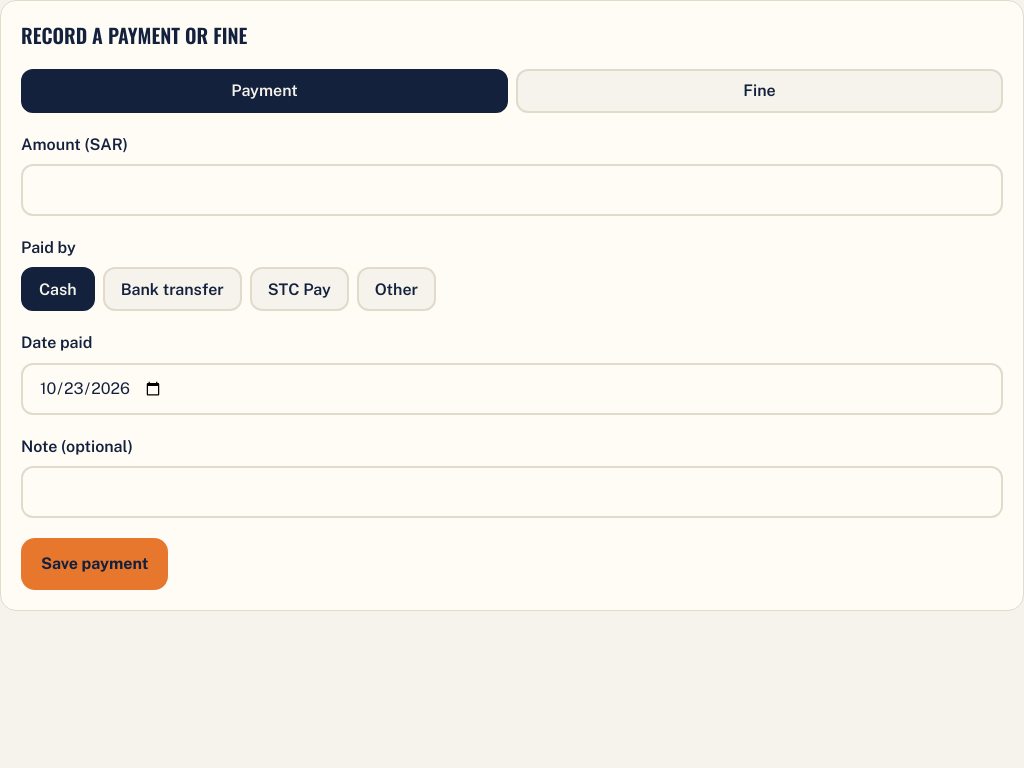
Scenario: payment form › refuses amounts that are not SAR
This screenshot has width=1024, height=768.
Type "1,50.5.0" into the field labelled "Amount (SAR)" at (512,190), box top-left (21, 164), bottom-right (1003, 216)
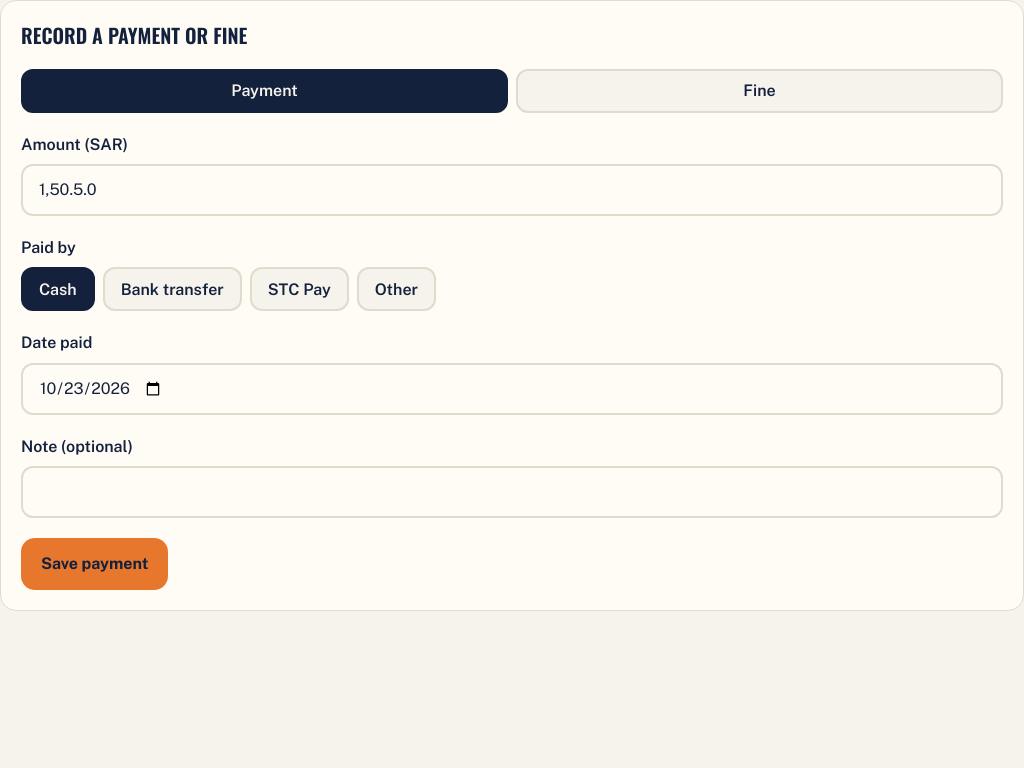
Click the button "Save payment" at (95,564), box top-left (21, 538), bottom-right (168, 590)
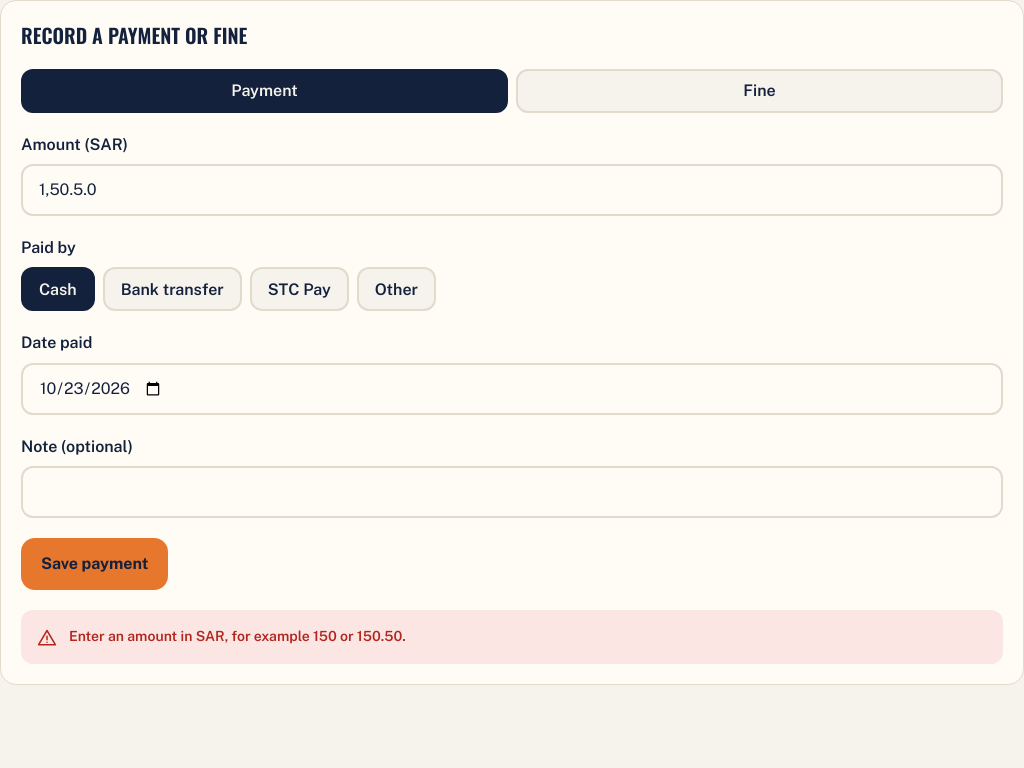
Expected: the message reads "Enter an amount in SAR, for example 150 or 150.50.", top-left (69, 628), bottom-right (406, 644)
